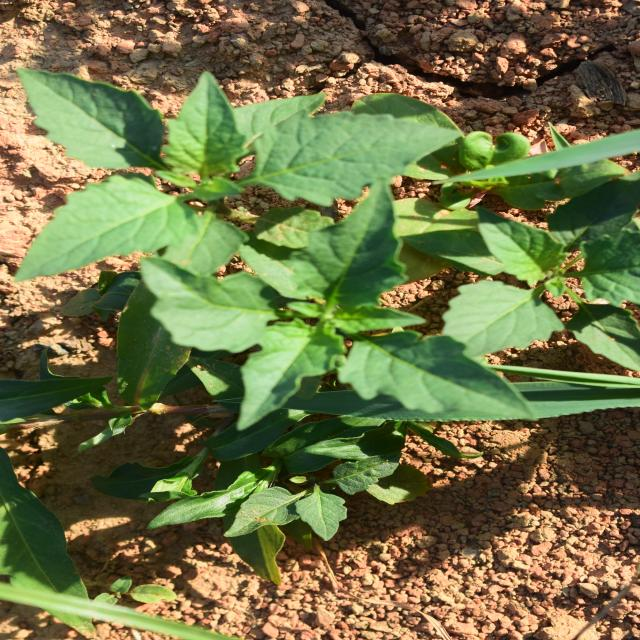Black_nightshade: (362, 3, 568, 425), (224, 169, 442, 524)
